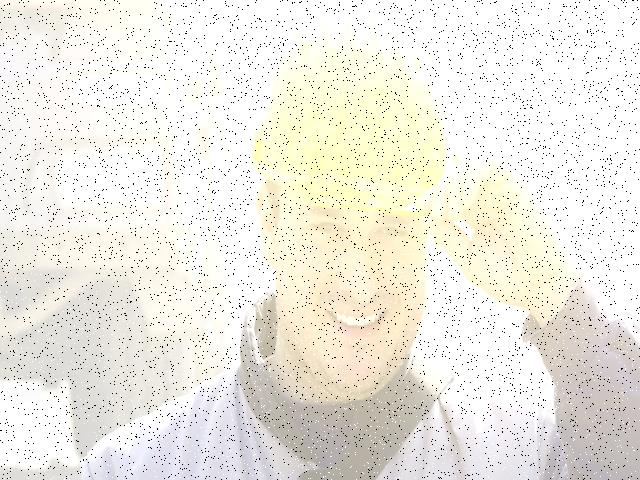Helmet: (243, 0, 463, 227)
